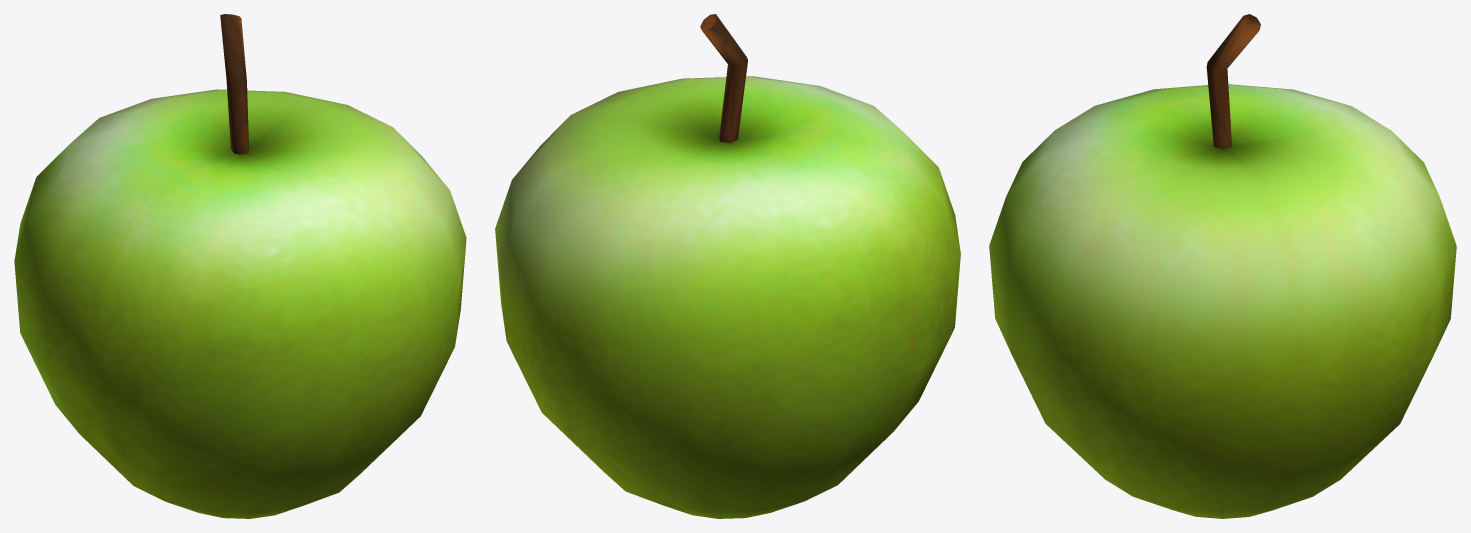
The model's file is 002-GrnApple_Grapefruit.FBX.
The picture shows the model from 3 angles, left to right: view 1: azimuth 30°, elevation 25°; view 2: azimuth 150°, elevation 25°; view 3: azimuth 270°, elevation 25°; orthographic projection. The views are drawn at different scales.
Visible parts, largest first — view 1: 002-GrnApple_Grapefruit; view 2: 002-GrnApple_Grapefruit; view 3: 002-GrnApple_Grapefruit.
Part boxes in pixels (x1,y1,x2,y2): 002-GrnApple_Grapefruit: [14, 14, 466, 518]; 002-GrnApple_Grapefruit: [495, 14, 960, 518]; 002-GrnApple_Grapefruit: [989, 14, 1456, 518].
Size of the model in its own units: 11.17 by 13.08 by 11.35.
